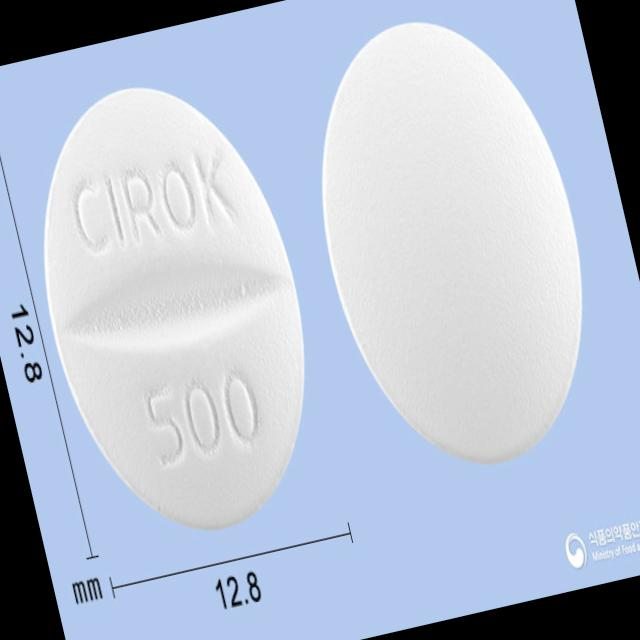Cirok: (0, 52, 351, 564)
